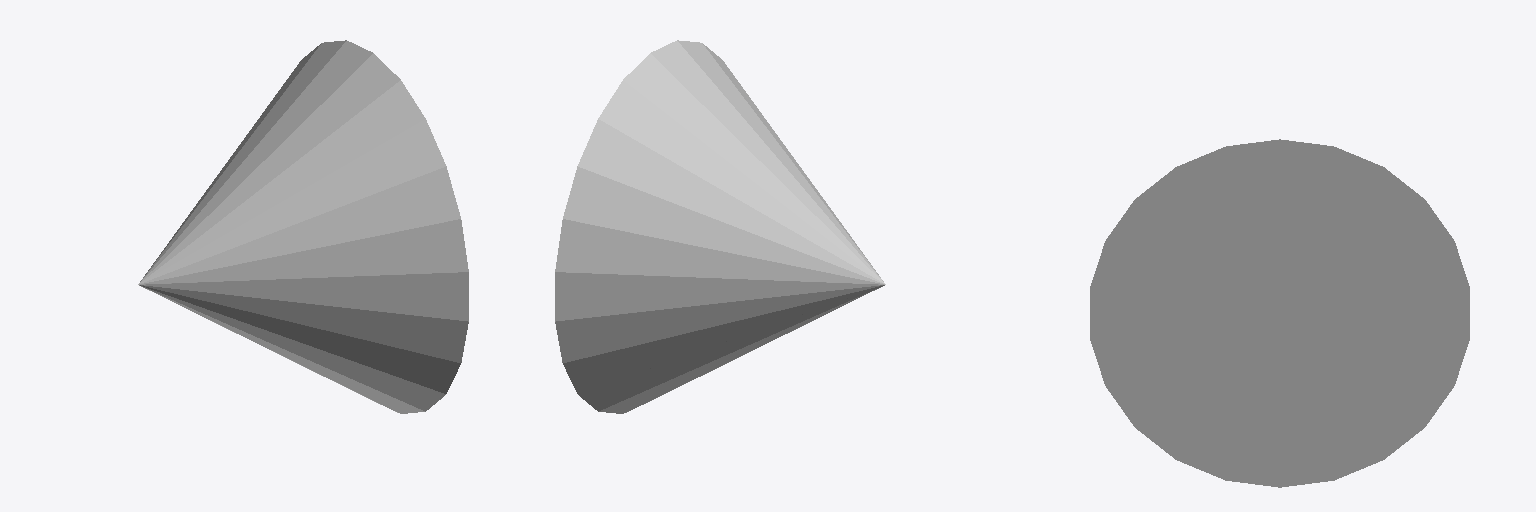
The model's file is mid70-fov.obj.
The picture shows the model from 3 angles: view 1: azimuth 30°, elevation 25°; view 2: azimuth 150°, elevation 25°; view 3: azimuth 270°, elevation 25°; orthographic projection.
Parts seen in each view (by area): view 1: 1; view 2: 1; view 3: 1.
Part boxes in pixels (x1,y1,x2,y2): 1: (138, 40, 468, 413); 1: (555, 40, 885, 413); 1: (1090, 139, 1469, 487).
Bounding box in the file's own units: 151 × 213 × 211.